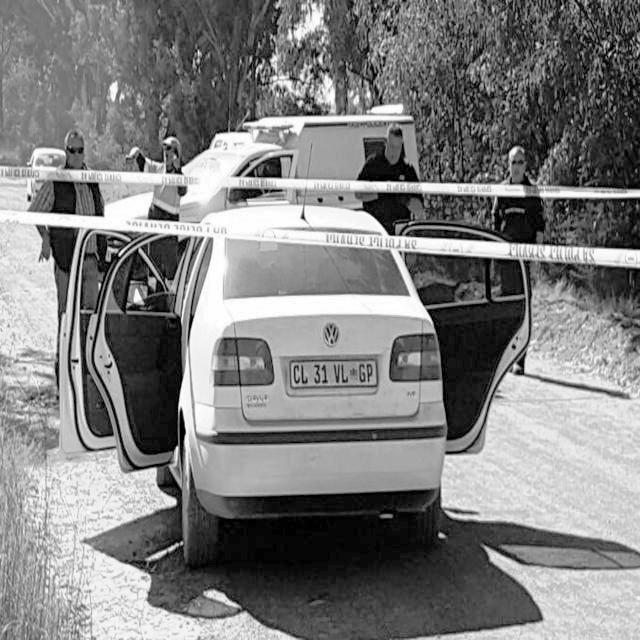Car: (70, 207, 534, 529)
